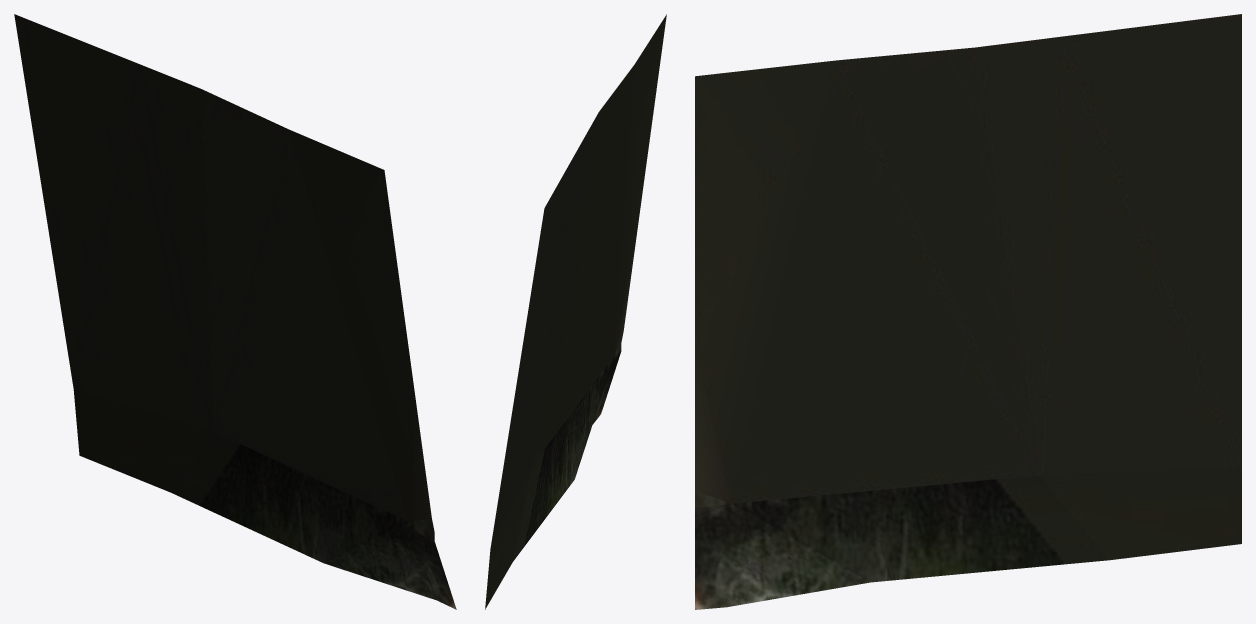
3 views of the same model, side by side, from view 1: azimuth 30°, elevation 25°; view 2: azimuth 150°, elevation 25°; view 3: azimuth 270°, elevation 25° (orthographic). The views are drawn at different scales.
Size of the model in its own units: 1.28 by 2.95 by 2.95.
Materials: 3 (3 with a texture image).
